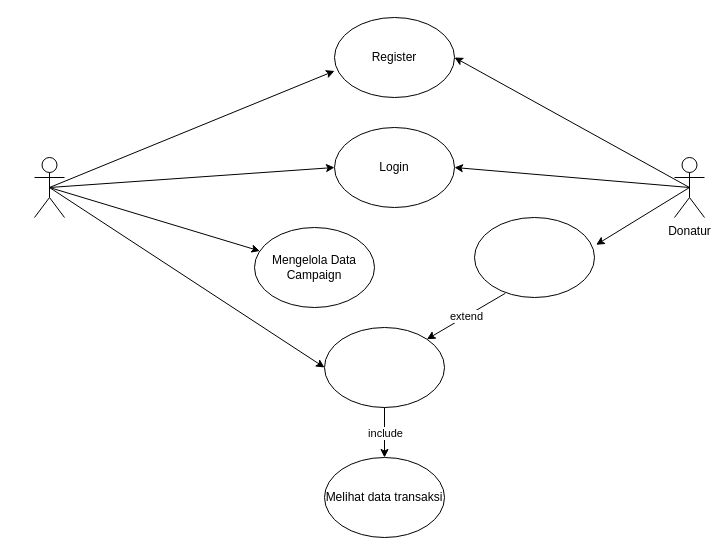
The diagram is 728 pixels wide and 555 high, and some of its shapes have lost their labels. Each missing label, with the centre of its shape:
"Melakukan Transaksi" goes at (384,367).
"Melihat data Campaign" goes at (534,257).
"Penggalang" goes at (49,187).
